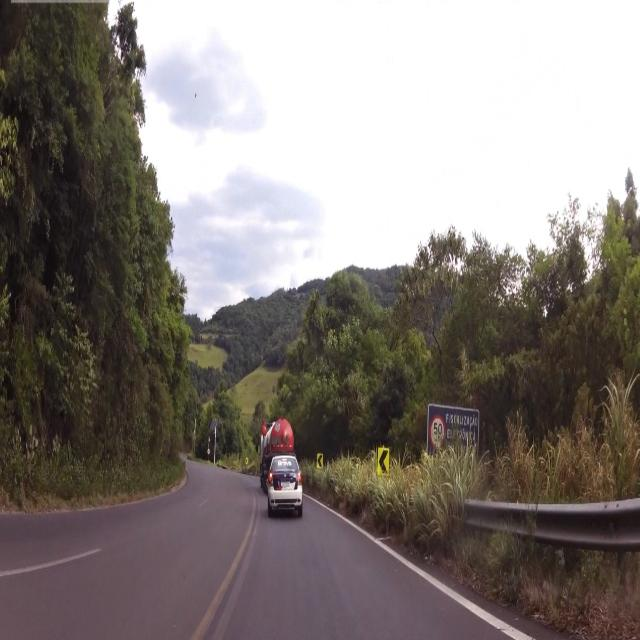Del: (376, 443, 389, 485)
